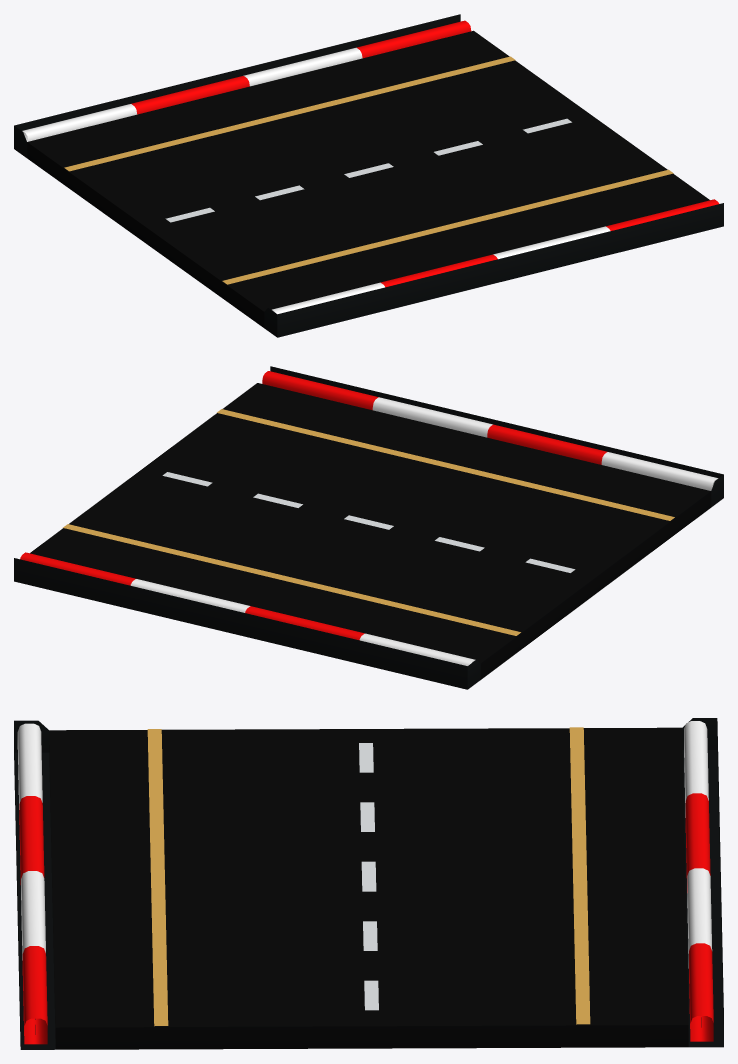
The picture shows the model from 3 angles, top to bottom: view 1: azimuth 30°, elevation 25°; view 2: azimuth 150°, elevation 25°; view 3: azimuth 270°, elevation 25°; orthographic projection. The views are drawn at different scales.
Visible parts, largest first — view 1: road_road_road_road_road_road_road_road, Side2_StraightTrack01_Cube.001-Mesh.001_Side2_StraightTrack01_C_, Side_StraightTrack01_Cube.001-Mesh.002_Side_StraightTrack01_Cub_; view 2: road_road_road_road_road_road_road_road, Side_StraightTrack01_Cube.001-Mesh.002_Side_StraightTrack01_Cub_, Side2_StraightTrack01_Cube.001-Mesh.001_Side2_StraightTrack01_C_; view 3: road_road_road_road_road_road_road_road, Side_StraightTrack01_Cube.001-Mesh.002_Side_StraightTrack01_Cub_, Side2_StraightTrack01_Cube.001-Mesh.001_Side2_StraightTrack01_C_.
Part boxes in pixels (left/top/right/bottom): road_road_road_road_road_road_road_road: left=14, top=14, right=723, bottom=337; Side2_StraightTrack01_Cube.001-Mesh.001_Side2_StraightTrack01_C_: left=22, top=20, right=471, bottom=141; Side_StraightTrack01_Cube.001-Mesh.002_Side_StraightTrack01_Cub_: left=271, top=199, right=719, bottom=314; road_road_road_road_road_road_road_road: left=14, top=366, right=723, bottom=689; Side_StraightTrack01_Cube.001-Mesh.002_Side_StraightTrack01_Cub_: left=262, top=371, right=718, bottom=490; Side2_StraightTrack01_Cube.001-Mesh.001_Side2_StraightTrack01_C_: left=20, top=552, right=475, bottom=665; road_road_road_road_road_road_road_road: left=14, top=718, right=723, bottom=1049; Side_StraightTrack01_Cube.001-Mesh.002_Side_StraightTrack01_Cub_: left=17, top=723, right=47, bottom=1044; Side2_StraightTrack01_Cube.001-Mesh.001_Side2_StraightTrack01_C_: left=684, top=721, right=713, bottom=1041.
Size of the model in its own units: 2.02 by 0.1 by 2.02.
Materials: 4 (1 with a texture image).
